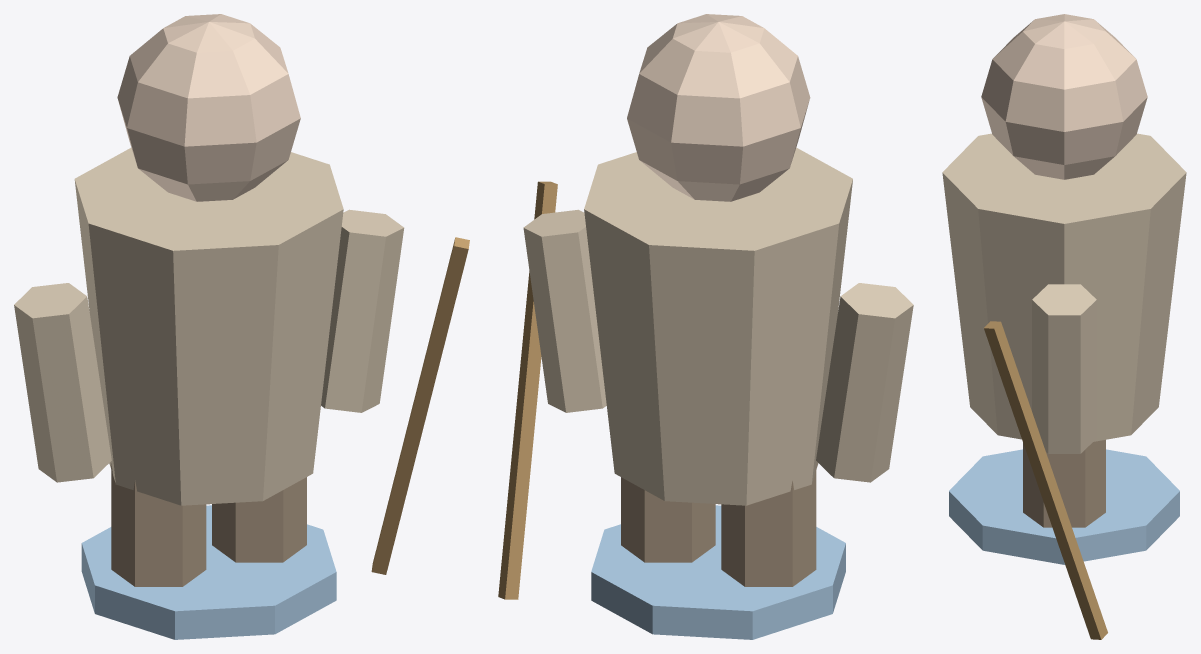
Rendered from fisherman.glb.
3 renders of one model, left to right at view 1: azimuth 30°, elevation 25°; view 2: azimuth 150°, elevation 25°; view 3: azimuth 270°, elevation 25°, orthographic. The views are drawn at different scales.
Parts seen in each view (by area): view 1: fisherman; view 2: fisherman; view 3: fisherman.
Part boxes in pixels (x1=…): fisherman: x1=14, y1=14, x2=469, y2=639; fisherman: x1=498, y1=14, x2=913, y2=639; fisherman: x1=942, y1=14, x2=1186, y2=639.
Bounding box in the file's own units: 0.445 × 0.639 × 0.264.
